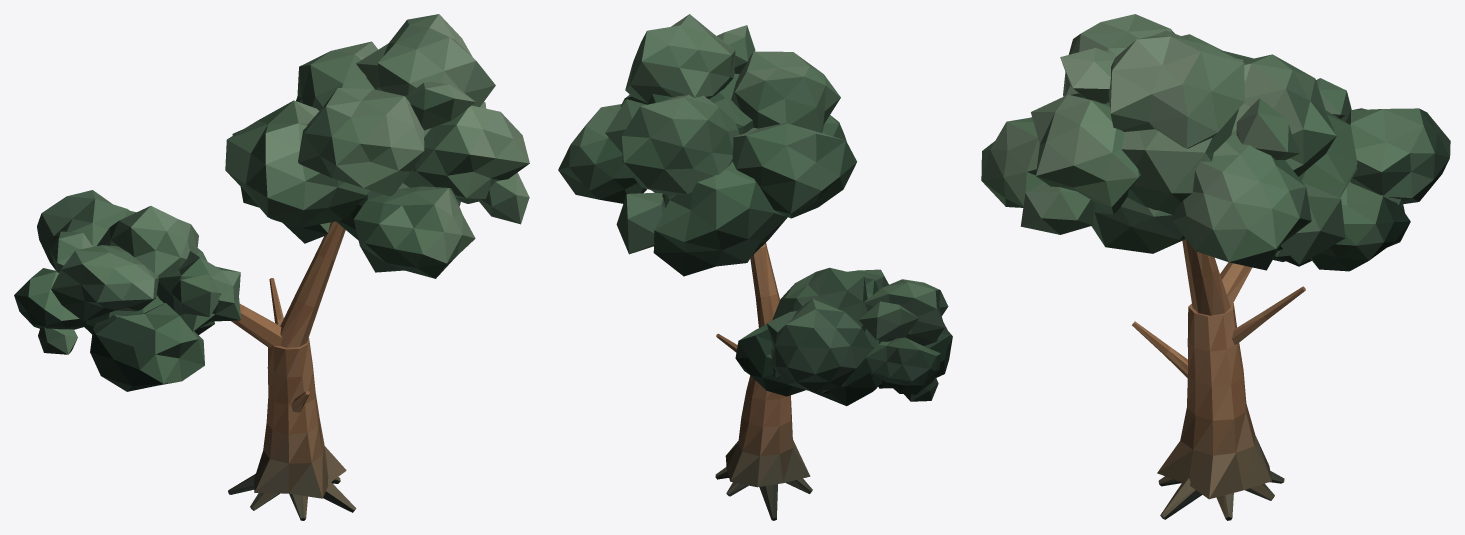
Rendered from broadleaf-round-forked.glb.
The picture shows the model from 3 angles, left to right: view 1: azimuth 30°, elevation 25°; view 2: azimuth 150°, elevation 25°; view 3: azimuth 270°, elevation 25°; orthographic projection. The views are drawn at different scales.
Parts seen in each view (by area): view 1: canopy, trunk; view 2: canopy, trunk; view 3: canopy, trunk.
Part boxes in pixels (left/top/right/bottom): canopy: left=14, top=14, right=529, bottom=391; trunk: left=228, top=221, right=356, bottom=520; canopy: left=558, top=14, right=952, bottom=406; trunk: left=715, top=243, right=812, bottom=520; canopy: left=981, top=14, right=1450, bottom=271; trunk: left=1132, top=239, right=1305, bottom=520.
Bounding box in the file's own units: 7.35 × 7.55 × 6.06.
